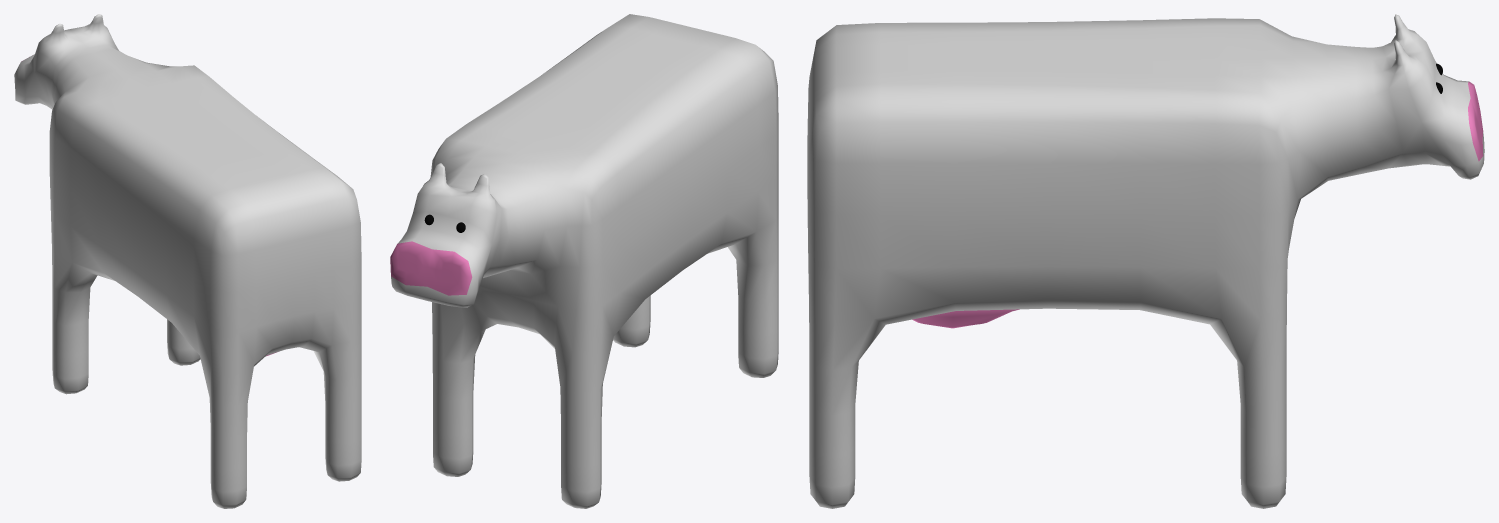
Rendered from Cow.fbx.
3 views of the same model, side by side, from view 1: azimuth 30°, elevation 25°; view 2: azimuth 150°, elevation 25°; view 3: azimuth 270°, elevation 25° (orthographic). The views are drawn at different scales.
Parts seen in each view (by area): view 1: Cow; view 2: Cow; view 3: Cow.
Part boxes in pixels (x1=…): Cow: x1=14, y1=14, x2=361, y2=508; Cow: x1=390, y1=14, x2=778, y2=508; Cow: x1=807, y1=14, x2=1484, y2=508.
Size of the model in its own units: 200 by 409 by 572.
